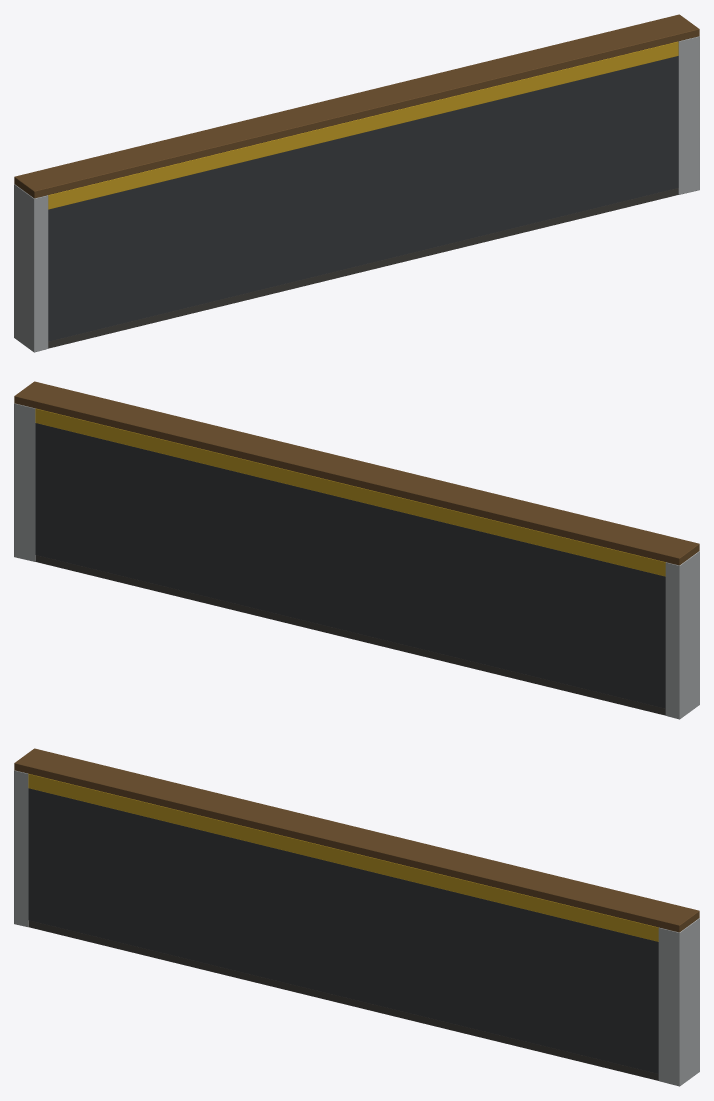
Rendered from prop_of_box_unit_w950.glb.
3 views of the same model, one above another, from view 1: azimuth 30°, elevation 25°; view 2: azimuth 150°, elevation 25°; view 3: azimuth 330°, elevation 25° (orthographic).
Parts seen in each view (by area): view 1: Unit; view 2: Unit; view 3: Unit.
Part boxes in pixels (<box>): Unit: <box>14,14,699,352</box>; Unit: <box>14,381,699,719</box>; Unit: <box>14,748,699,1086</box>.
Size of the model in its own units: 9.51 by 2.2 by 0.5.
